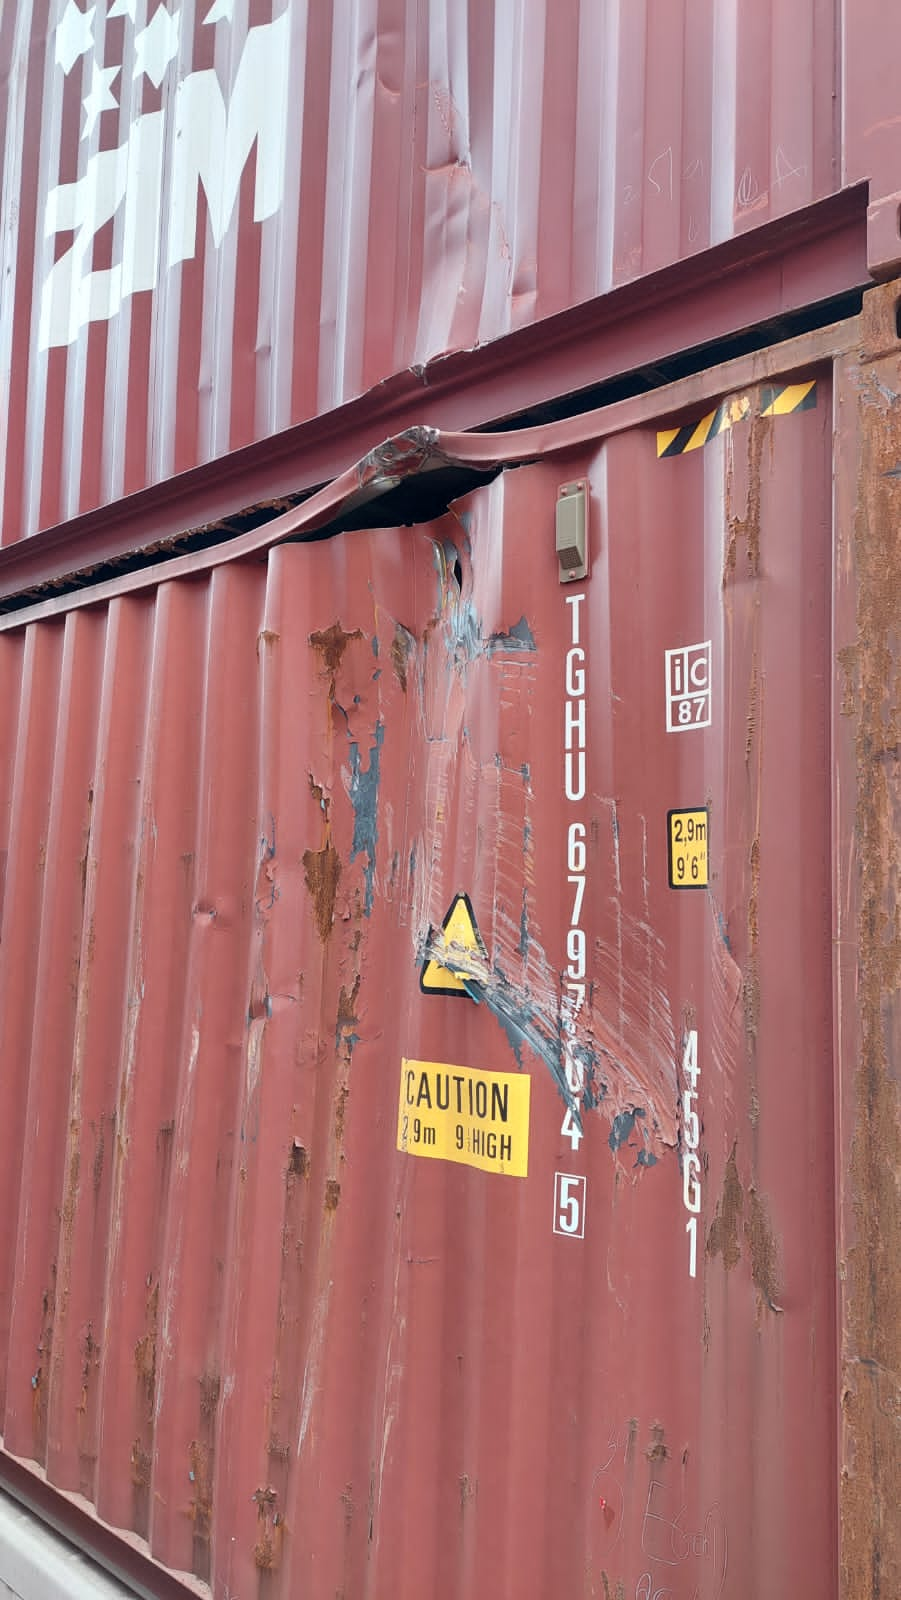dented: (240, 404, 561, 591)
rust: (686, 808, 813, 1305), (240, 815, 388, 1198), (269, 621, 389, 747)
